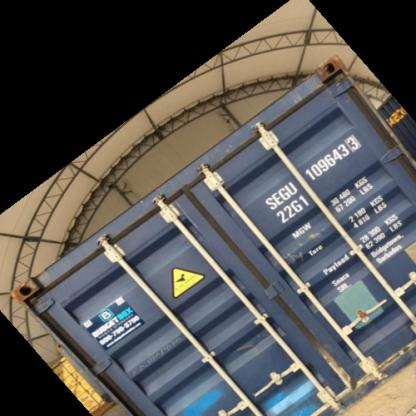Damage: (298, 342, 380, 386), (370, 334, 416, 369)
